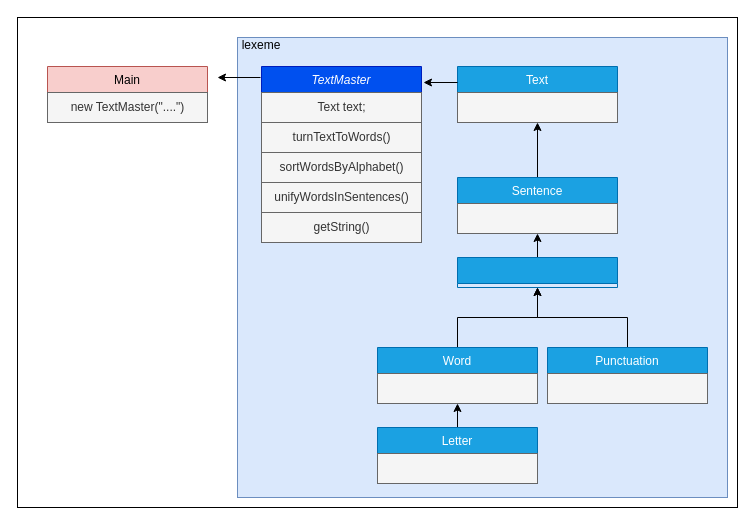
Some shapes in this 755 by 525 pixel diagram are drawn without their labels. The centre of each missing label's shape, as x and y in pixels:
"ArrayList<Letter>" goes at (x=457, y=388).
"ArrayList<Sentence>" goes at (x=537, y=107).
"ArrayList<WordPunct>" goes at (x=537, y=218).
"String letter;" goes at (x=457, y=468).
"String mark;" goes at (x=627, y=388).
"WordPunct" goes at (x=537, y=272).
